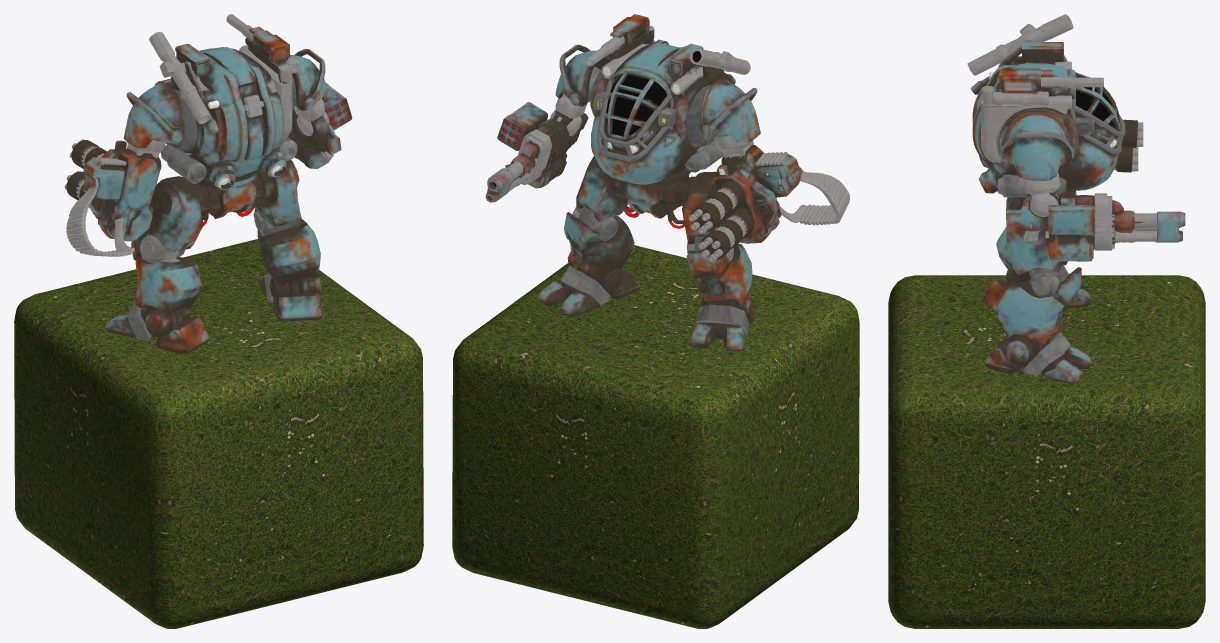
File: mech-epic.glb
3 renders of one model, left to right at view 1: azimuth 30°, elevation 25°; view 2: azimuth 150°, elevation 25°; view 3: azimuth 270°, elevation 25°, orthographic.
Visible parts, largest first — view 1: Plane_Grass2 by JJ_0, Main cabin_gameasset_gameasset_Main cabin_gameasset_gameasse; view 2: Plane_Grass2 by JJ_0, Main cabin_gameasset_gameasset_Main cabin_gameasset_gameasse; view 3: Plane_Grass2 by JJ_0, Main cabin_gameasset_gameasset_Main cabin_gameasset_gameasse.
Part boxes in pixels (bbox=[...]): Plane_Grass2 by JJ_0: bbox=[14, 239, 423, 628]; Main cabin_gameasset_gameasset_Main cabin_gameasset_gameasse: bbox=[64, 14, 352, 353]; Plane_Grass2 by JJ_0: bbox=[452, 245, 859, 628]; Main cabin_gameasset_gameasset_Main cabin_gameasset_gameasse: bbox=[485, 14, 849, 351]; Plane_Grass2 by JJ_0: bbox=[888, 275, 1205, 628]; Main cabin_gameasset_gameasset_Main cabin_gameasset_gameasse: bbox=[967, 14, 1185, 383].
Size of the model in its own units: 1.07 by 1.76 by 0.952.
2 materials, 2 textured.
